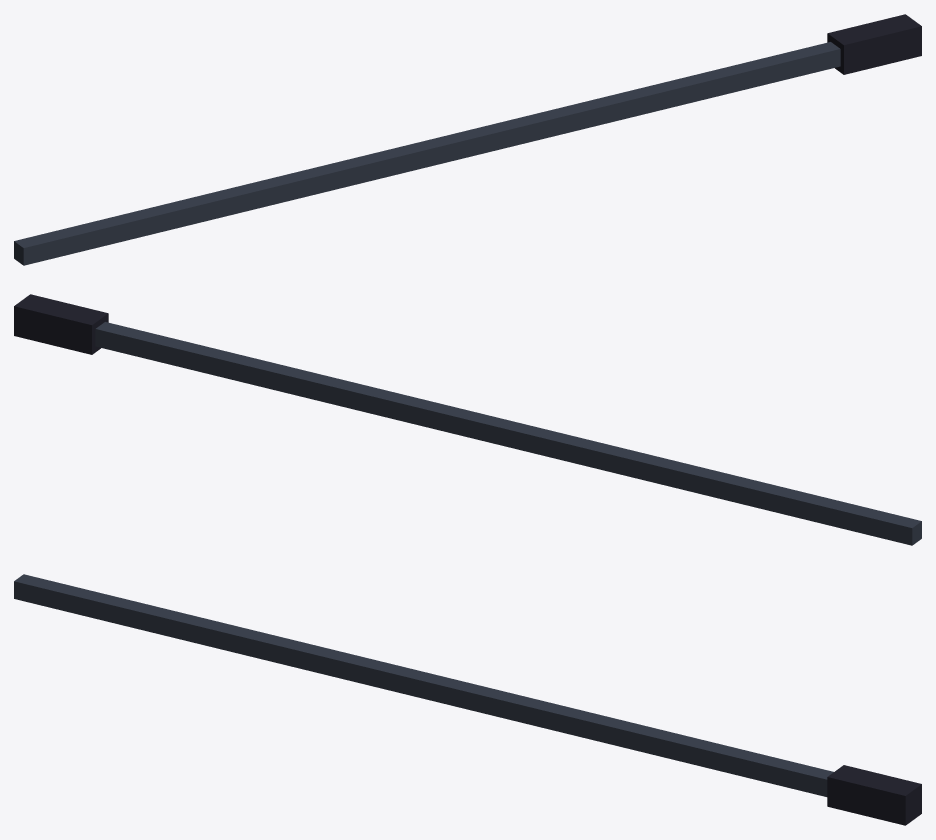
File: Cable_C_1_3.fbx
3 views of the same model, one above another, from view 1: azimuth 30°, elevation 25°; view 2: azimuth 150°, elevation 25°; view 3: azimuth 330°, elevation 25° (orthographic).
Visible parts, largest first — view 1: Cable_C_1_3; view 2: Cable_C_1_3; view 3: Cable_C_1_3.
Part boxes in pixels (x1=…): Cable_C_1_3: x1=14, y1=14, x2=921, y2=265; Cable_C_1_3: x1=14, y1=294, x2=921, y2=545; Cable_C_1_3: x1=14, y1=574, x2=921, y2=825.
Bounding box in the file's own units: 309 × 9.83 × 9.83.
